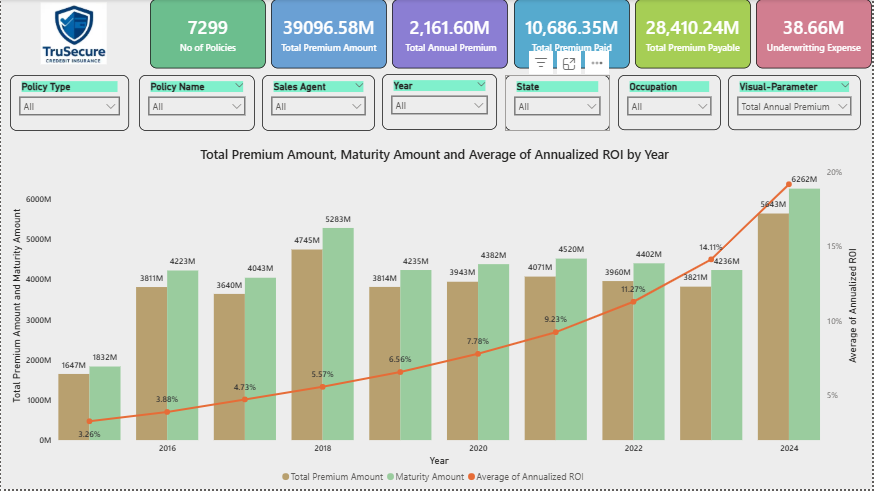

What the dashboard file says about the page in this screenshot:
{"tool":"powerbi","page":{"name":"Investment Amount Vs Maturity Amount","canvas":[1280,720],"ordinal":2},"visuals":[{"type":"card","fields":{"Values":["CountNonNull(DM Customer_Detail_Table.Customer ID)"]},"box":[218.3,0,170,101.7],"z":0},{"type":"card","fields":{"Values":["Sum(FCT Insurance_Policy_Table.Total Annual Premium)"]},"box":[575,0,170,101.7],"z":1000},{"type":"card","fields":{"Values":["Sum(FCT Insurance_Policy_Table.Total Premium Amount)"]},"box":[396.7,0,170,101.7],"z":2000},{"type":"card","fields":{"Values":["Sum(FCT Insurance_Policy_Table.Total Premium Paid)"]},"box":[753.3,0,170,101.7],"z":3000},{"type":"card","fields":{"Values":["Sum(FCT Insurance_Policy_Table.Total Premium Payable)"]},"box":[931.7,0,170,101.7],"z":4000},{"type":"card","fields":{"Values":["FCT Insurance_Policy_Table.Underwritting Expense"]},"box":[1110,0,170,101.7],"z":5000},{"type":"slicer","fields":{"Values":["DM Policy_Protection_Plan.Policy Name"]},"box":[202.8,111.7,170.4,82.3],"z":6000},{"type":"slicer","fields":{"Values":["DM Policy_Type.Policy Type"]},"box":[13.2,111.7,174.9,82.3],"z":7000},{"type":"slicer","fields":{"Values":["FCT Insurance_Policy_Table.Start Date.Variation.Date Hierarchy.Year"]},"box":[559.8,110.2,169,82.3],"z":8000},{"type":"slicer","fields":{"Values":["DM Insurance_Agent_Table.Sales Agent"]},"box":[383.5,111.7,166,82.3],"z":9000},{"type":"slicer","fields":{"Values":["DM Customer_Detail_Table.State"]},"box":[740.6,111.7,154.3,82.3],"z":10000},{"type":"slicer","fields":{"Values":["DM Customer_Detail_Table.Occupation"]},"box":[906.6,111.7,151.3,80.8],"z":11000},{"type":"image","box":[10.3,0,194,101.4],"z":12000},{"type":"slicer","fields":{"Values":["Visual-Parameter.Visual-Parameter"]},"box":[1068.2,111.7,195.4,80.8],"z":13000},{"type":"lineClusteredColumnComboChart","fields":{"Category":["FCT Insurance_Policy_Table.Start Date.Variation.Date Hierarchy.Year","FCT Insurance_Policy_Table.Start Date.Variation.Date Hierarchy.Quarter","FCT Insurance_Policy_Table.Start Date.Variation.Date Hierarchy.Month","FCT Insurance_Policy_Table.Start Date.Variation.Date Hierarchy.Day"],"Y":["Sum(FCT Insurance_Policy_Table.Total Premium Amount)","Sum(FCT Insurance_Policy_Table.Maturity Amount)"],"Y2":["Avg(FCT Insurance_Policy_Table.Annualized ROI)"]},"box":[10.7,214.5,1253.2,505.9],"z":14000}]}

Visuals, with their boxes in screenshot pixels (x1, y1, x2, y2), scaled from the page's 1280x720 canvas onto the 874x491 screenshot:
card - CountNonNull(DM Customer_Detail_Table.Customer ID): {"x1": 149, "y1": 0, "x2": 265, "y2": 69}
card - Sum(FCT Insurance_Policy_Table.Total Annual Premium): {"x1": 393, "y1": 0, "x2": 509, "y2": 69}
card - Sum(FCT Insurance_Policy_Table.Total Premium Amount): {"x1": 271, "y1": 0, "x2": 387, "y2": 69}
card - Sum(FCT Insurance_Policy_Table.Total Premium Paid): {"x1": 514, "y1": 0, "x2": 630, "y2": 69}
card - Sum(FCT Insurance_Policy_Table.Total Premium Payable): {"x1": 636, "y1": 0, "x2": 752, "y2": 69}
card - FCT Insurance_Policy_Table.Underwritting Expense: {"x1": 758, "y1": 0, "x2": 873, "y2": 69}
slicer - DM Policy_Protection_Plan.Policy Name: {"x1": 138, "y1": 76, "x2": 255, "y2": 132}
slicer - DM Policy_Type.Policy Type: {"x1": 9, "y1": 76, "x2": 128, "y2": 132}
slicer - FCT Insurance_Policy_Table.Start Date.Variation.Date Hierarchy.Year: {"x1": 382, "y1": 75, "x2": 498, "y2": 131}
slicer - DM Insurance_Agent_Table.Sales Agent: {"x1": 262, "y1": 76, "x2": 375, "y2": 132}
slicer - DM Customer_Detail_Table.State: {"x1": 506, "y1": 76, "x2": 611, "y2": 132}
slicer - DM Customer_Detail_Table.Occupation: {"x1": 619, "y1": 76, "x2": 722, "y2": 131}
image: {"x1": 7, "y1": 0, "x2": 139, "y2": 69}
slicer - Visual-Parameter.Visual-Parameter: {"x1": 729, "y1": 76, "x2": 863, "y2": 131}
lineClusteredColumnComboChart - FCT Insurance_Policy_Table.Start Date.Variation.Date Hierarchy.Year x FCT Insurance_Policy_Table.Start Date.Variation.Date Hierarchy.Quarter: {"x1": 7, "y1": 146, "x2": 863, "y2": 490}
